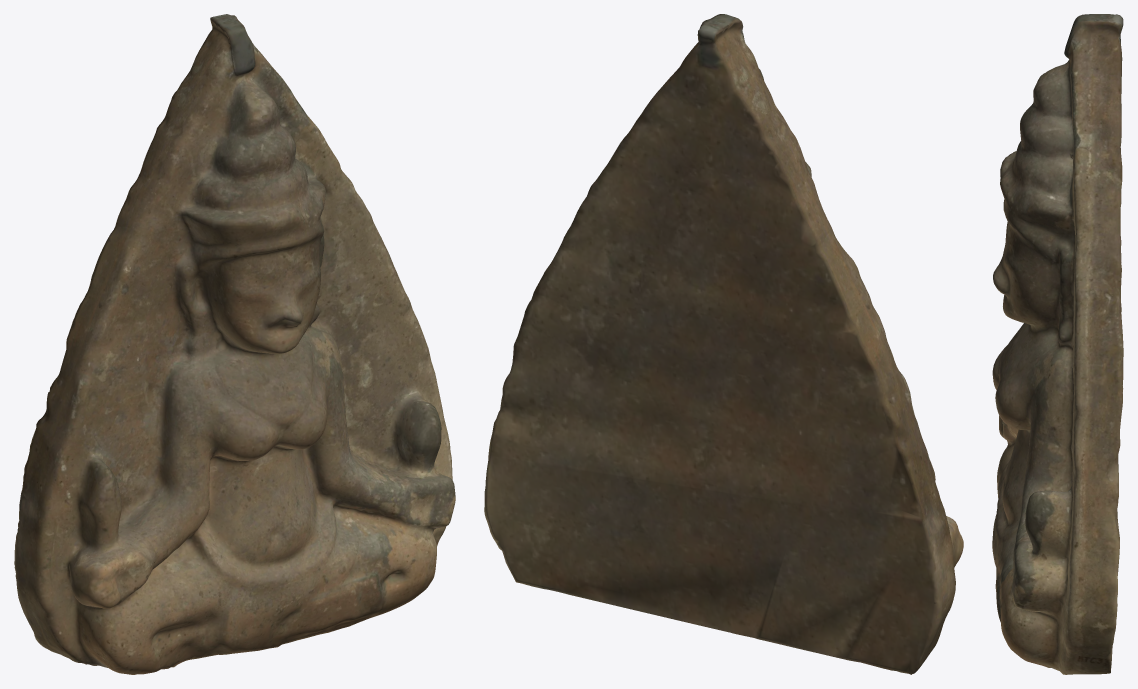
The model's file is 32_laskmi_final.glb.
The picture shows the model from 3 angles, left to right: view 1: azimuth 30°, elevation 25°; view 2: azimuth 150°, elevation 25°; view 3: azimuth 270°, elevation 25°; orthographic projection. The views are drawn at different scales.
Size of the model in its own units: 0.3925 by 0.5221 by 0.1068.
Materials: 1 (1 with a texture image).
